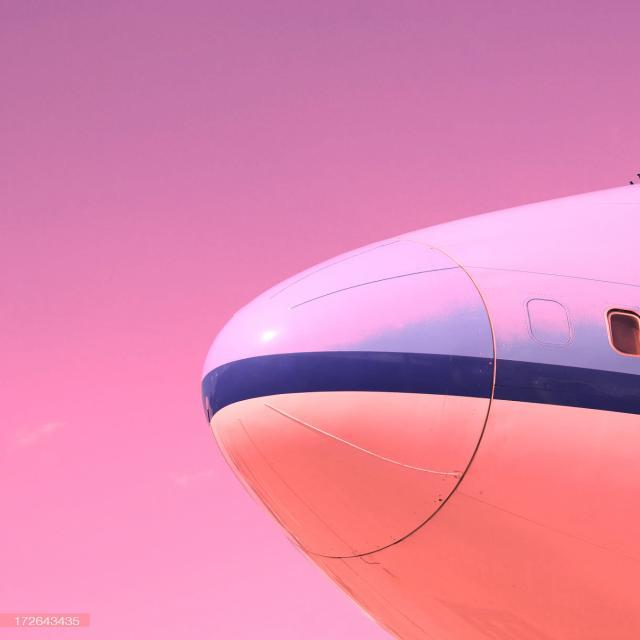crack: (358, 554, 386, 568)
